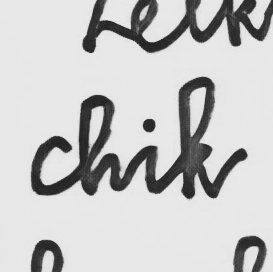c: (28, 134, 74, 198)
h: (76, 92, 121, 197)
i: (134, 116, 165, 196)
k: (174, 74, 219, 201)
